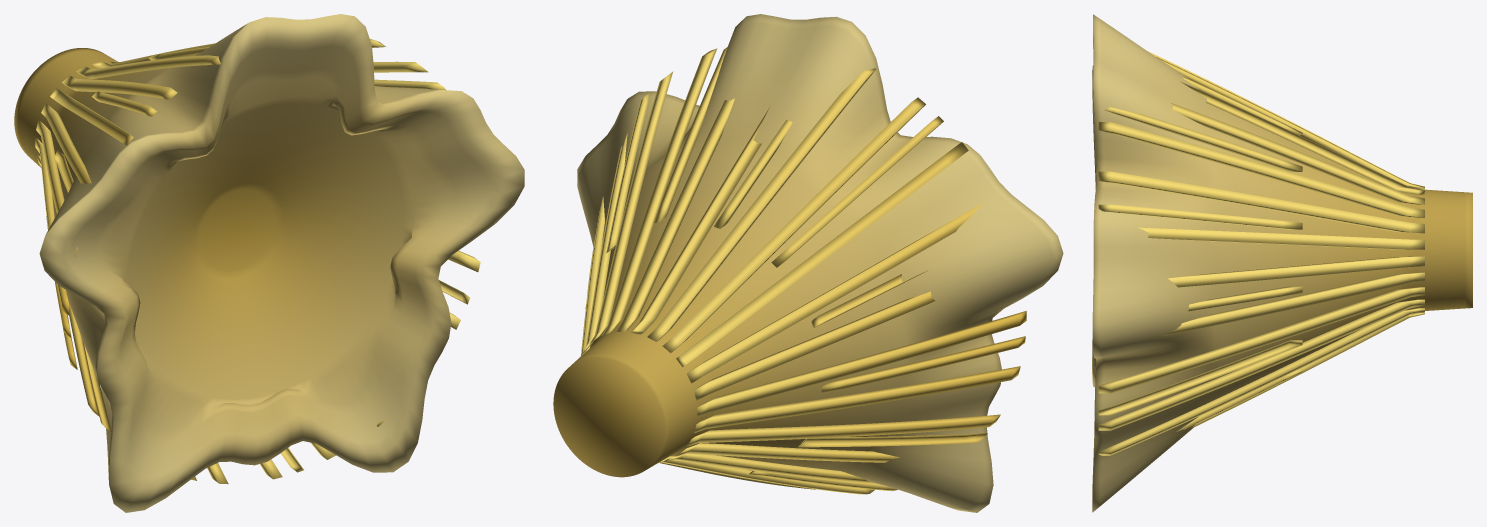
The model's file is cantharellus-cibarius.glb.
3 renders of one model, left to right at view 1: azimuth 30°, elevation 25°; view 2: azimuth 150°, elevation 25°; view 3: azimuth 270°, elevation 25°, orthographic. The views are drawn at different scales.
Visible parts, largest first — view 1: funnel_body, false_gills; view 2: funnel_body, false_gills; view 3: funnel_body, false_gills.
Part boxes in pixels (box(x1,y1,x2,y2)): funnel_body: box(14, 14, 524, 512); false_gills: box(35, 39, 480, 484); funnel_body: box(553, 14, 1063, 512); false_gills: box(580, 47, 1026, 494); funnel_body: box(1092, 14, 1472, 512); false_gills: box(1098, 51, 1424, 455).
Bounding box in the file's own units: 2.32 × 2.22 × 1.76.
